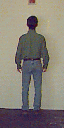person: (5, 11, 55, 113)
